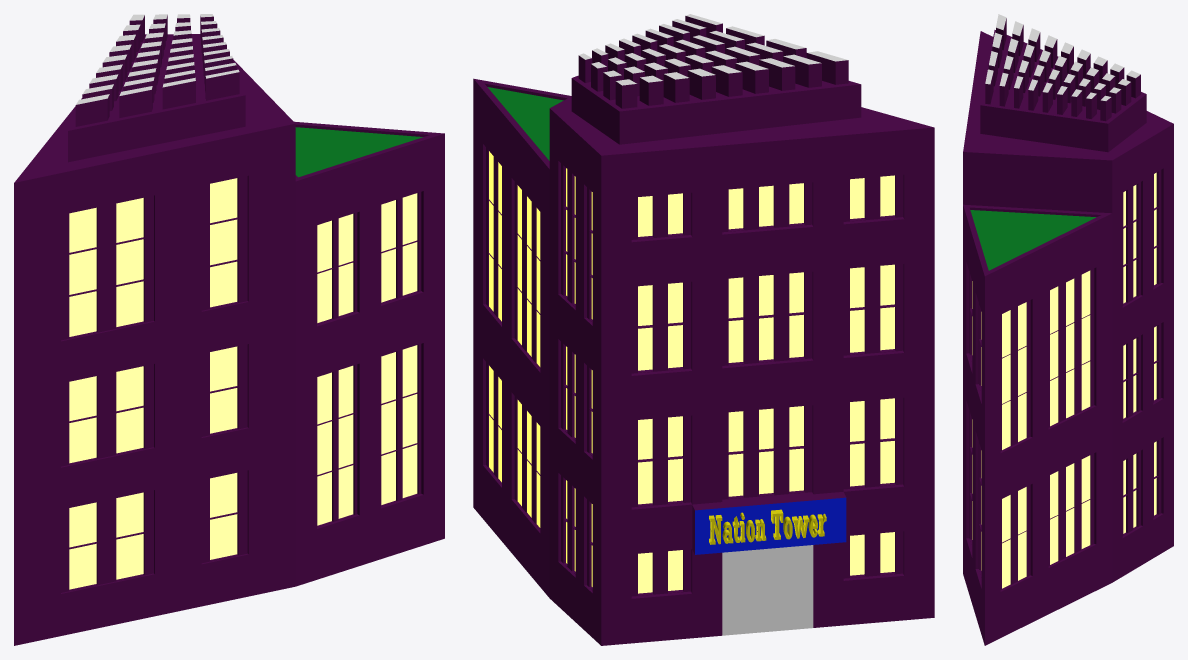
Rendered from nation_tower.fbx.
3 views of the same model, side by side, from view 1: azimuth 30°, elevation 25°; view 2: azimuth 150°, elevation 25°; view 3: azimuth 270°, elevation 25° (orthographic). The views are drawn at different scales.
Parts seen in each view (by area): view 1: nation_tower; view 2: nation_tower; view 3: nation_tower.
Boxes of the visible parts, left/top/right/bottom form: nation_tower: left=14, top=14, right=444, bottom=645; nation_tower: left=473, top=14, right=934, bottom=645; nation_tower: left=963, top=14, right=1173, bottom=645.
Bounding box in the file's own units: 626 × 714 × 290.
